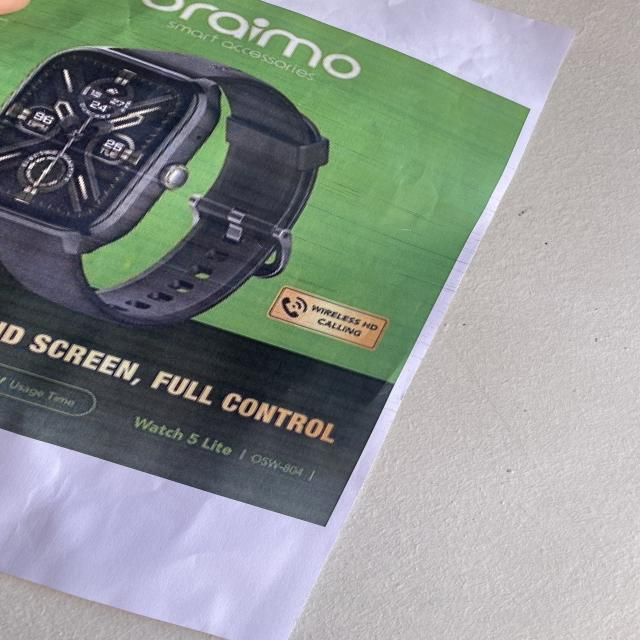Watch 5 Lite OSW-804: (126, 410, 324, 484)
